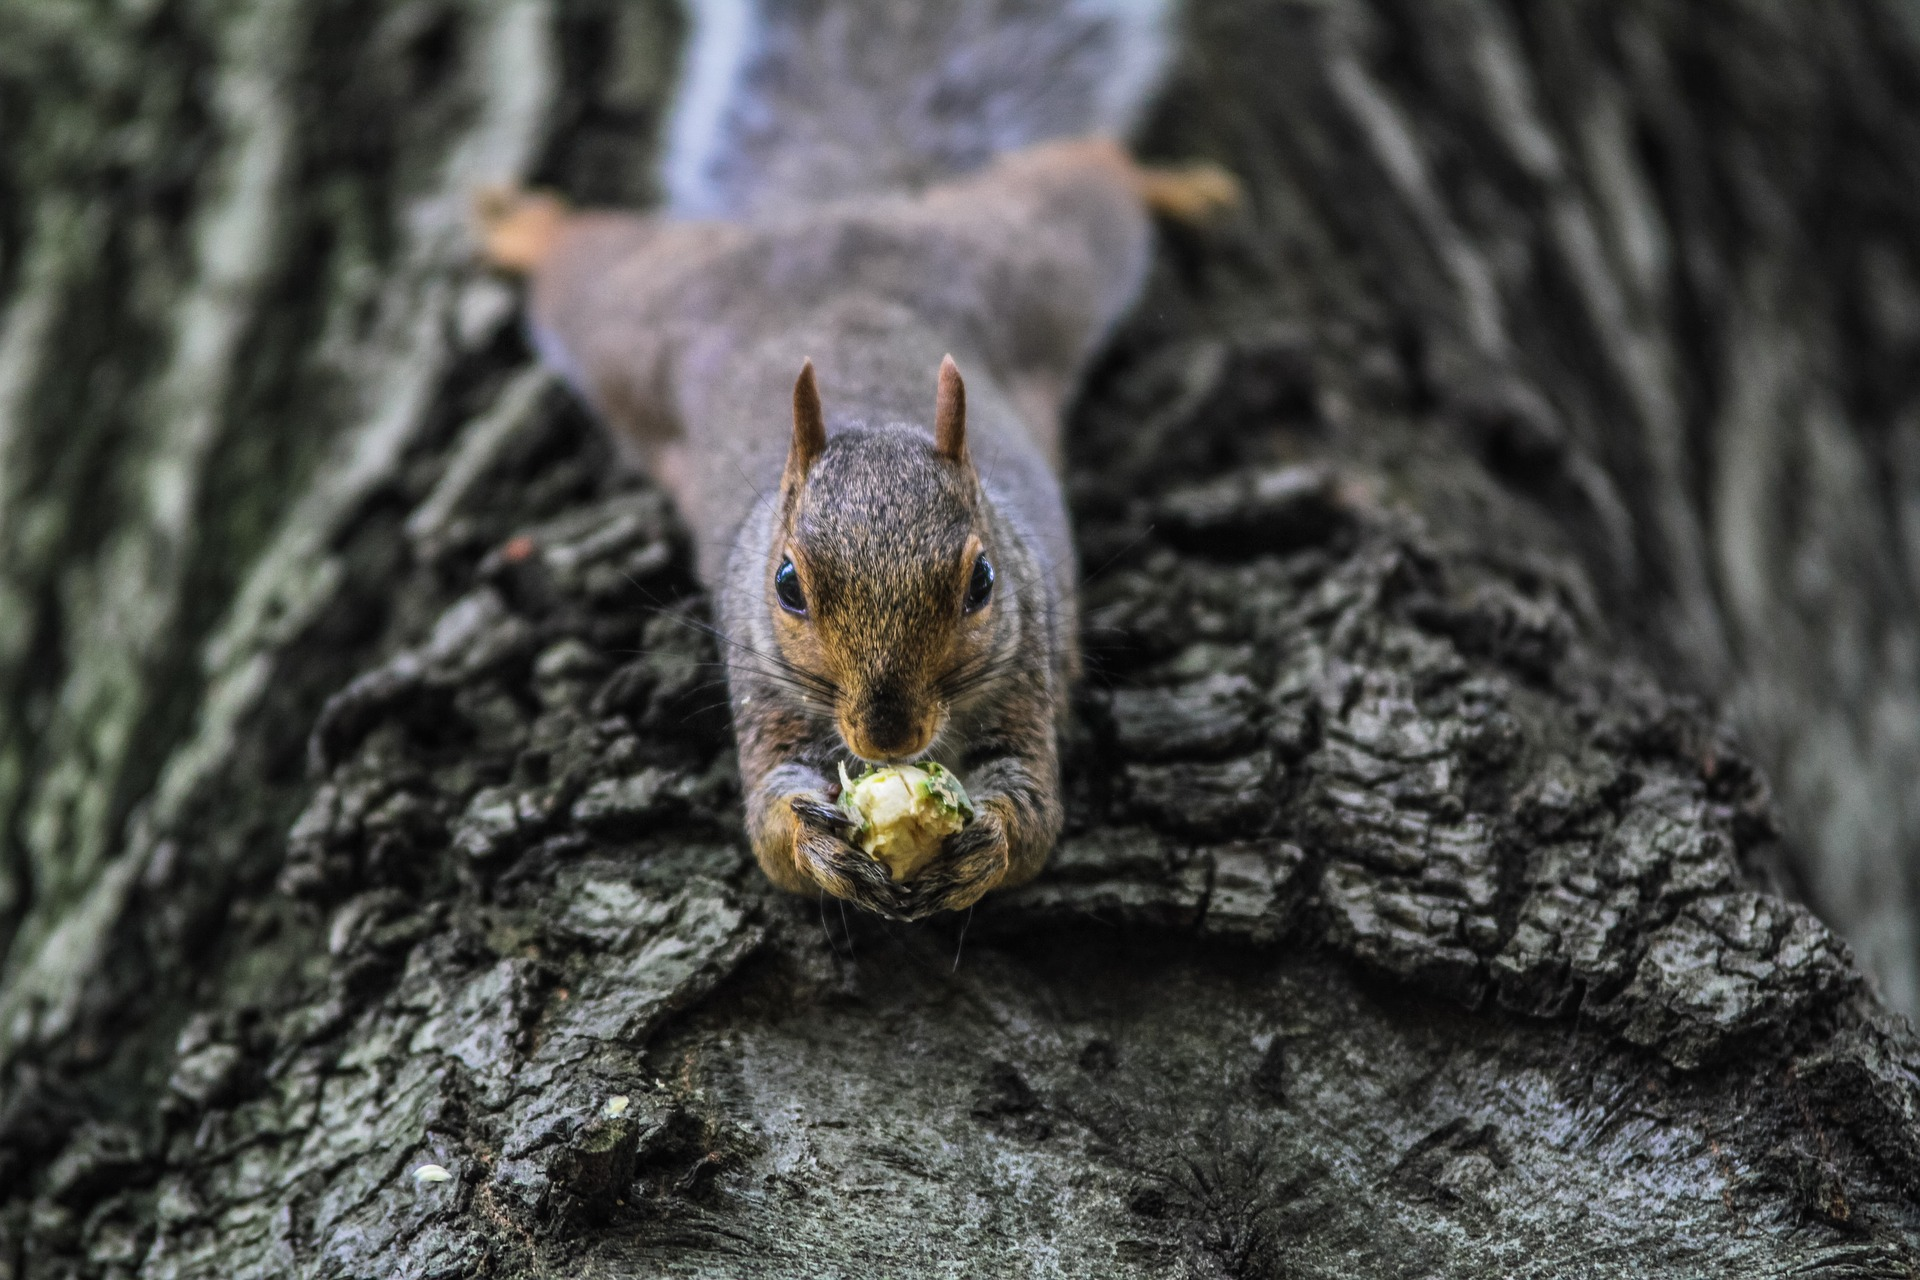squirrel: (616, 6, 1141, 929)
